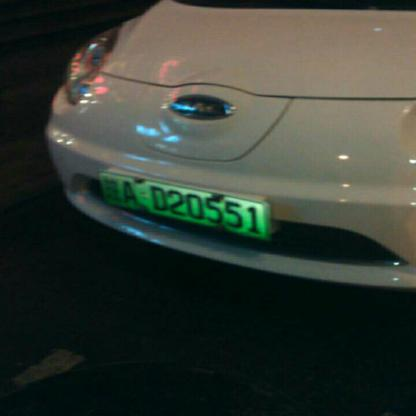lp: (98, 170, 268, 241)
